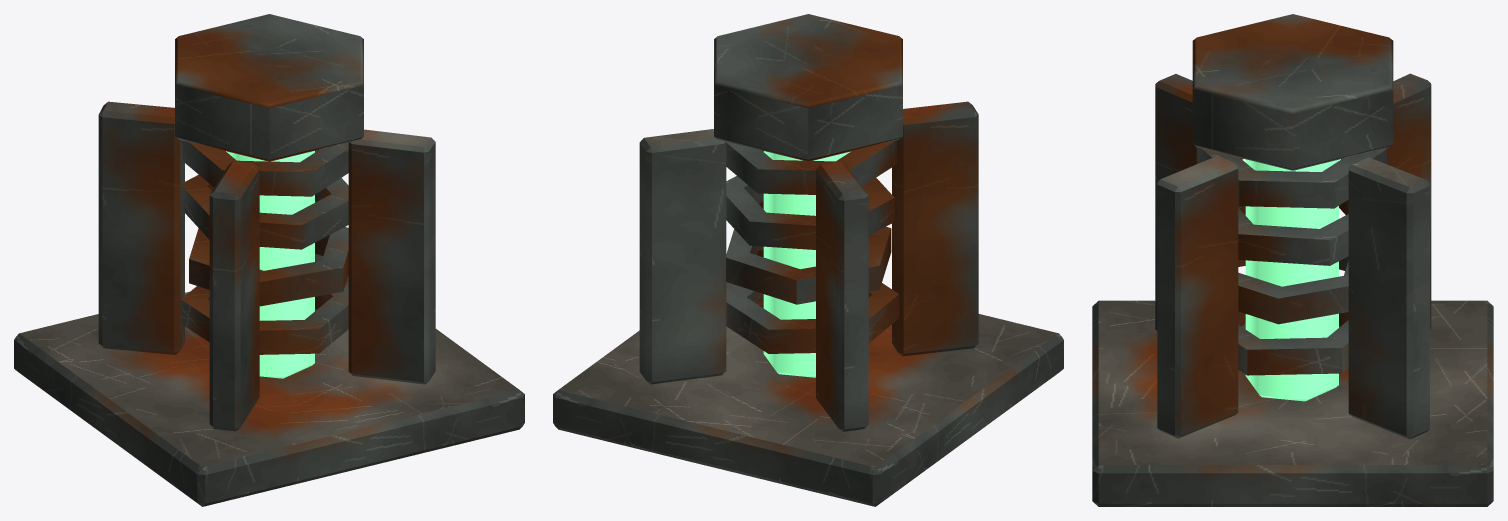
Rendered from R4X_EnergyRegenerator_LOD1.glb.
The picture shows the model from 3 angles, left to right: view 1: azimuth 30°, elevation 25°; view 2: azimuth 150°, elevation 25°; view 3: azimuth 270°, elevation 25°; orthographic projection. The views are drawn at different scales.
Visible parts, largest first — view 1: R4X_EnergyRegenerator_LOD1; view 2: R4X_EnergyRegenerator_LOD1; view 3: R4X_EnergyRegenerator_LOD1.
Part boxes in pixels (x1=…): R4X_EnergyRegenerator_LOD1: x1=14, y1=14, x2=524, y2=506; R4X_EnergyRegenerator_LOD1: x1=553, y1=14, x2=1063, y2=506; R4X_EnergyRegenerator_LOD1: x1=1092, y1=14, x2=1493, y2=506.
Size of the model in its own units: 0.52 by 0.52 by 0.52.
3 materials, 2 textured.
